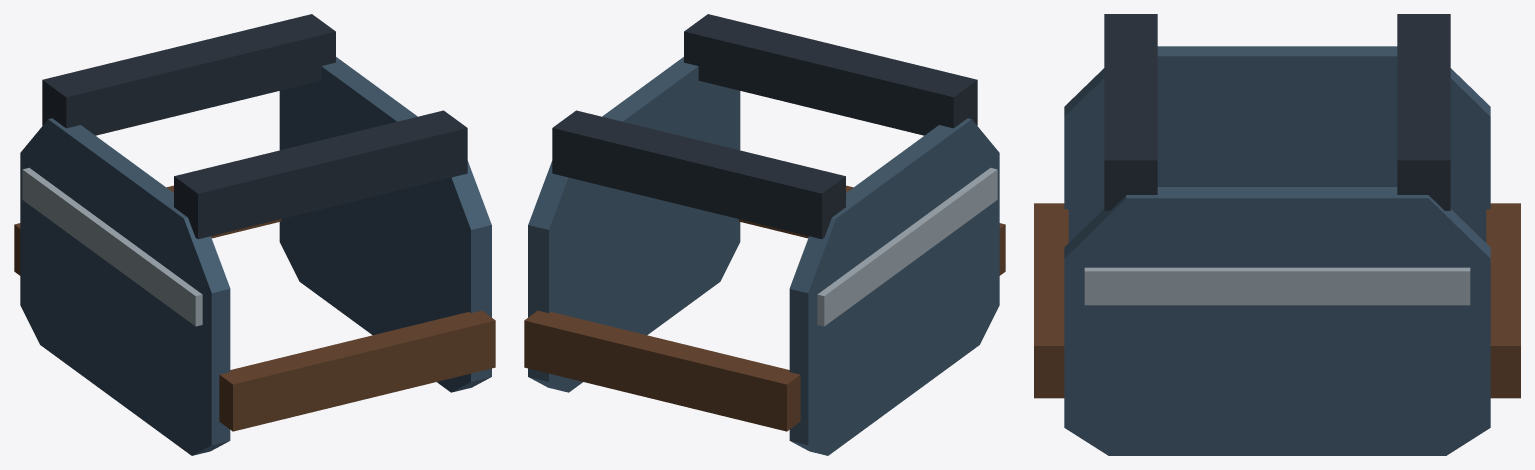
The picture shows the model from 3 angles, left to right: view 1: azimuth 30°, elevation 25°; view 2: azimuth 150°, elevation 25°; view 3: azimuth 270°, elevation 25°; orthographic projection. The views are drawn at different scales.
Visible parts, largest first — view 1: back_plate, front_plate, right_shoulder_strap, left_shoulder_strap, right_fastening, back_breast_band, left_fastening; view 2: back_plate, front_plate, left_shoulder_strap, right_shoulder_strap, left_fastening, back_breast_band, right_fastening; view 3: front_plate, back_plate, front_breast_band, left_shoulder_strap, right_shoulder_strap, left_fastening, right_fastening.
Part boxes in pixels (x1,y1,x2,y2): back_plate: (20, 118, 230, 455); front_plate: (279, 57, 491, 392); right_shoulder_strap: (174, 110, 467, 239); left_shoulder_strap: (42, 14, 335, 135); right_fastening: (219, 310, 495, 431); back_breast_band: (22, 167, 202, 326); left_fastening: (14, 185, 281, 275); back_plate: (789, 118, 999, 455); front_plate: (528, 57, 740, 392); left_shoulder_strap: (552, 110, 845, 239); right_shoulder_strap: (684, 14, 977, 135); left_fastening: (524, 310, 800, 431); back_breast_band: (817, 167, 997, 326); right_fastening: (738, 185, 1005, 275); front_plate: (1064, 187, 1490, 455); back_plate: (1064, 46, 1490, 242); front_breast_band: (1084, 267, 1470, 305); left_shoulder_strap: (1397, 14, 1450, 210); right_shoulder_strap: (1104, 14, 1157, 210); left_fastening: (1486, 203, 1520, 398); right_fastening: (1034, 203, 1068, 398).
Size of the model in its own units: 0.425 by 0.363 by 0.548.
2 materials, 2 textured.
